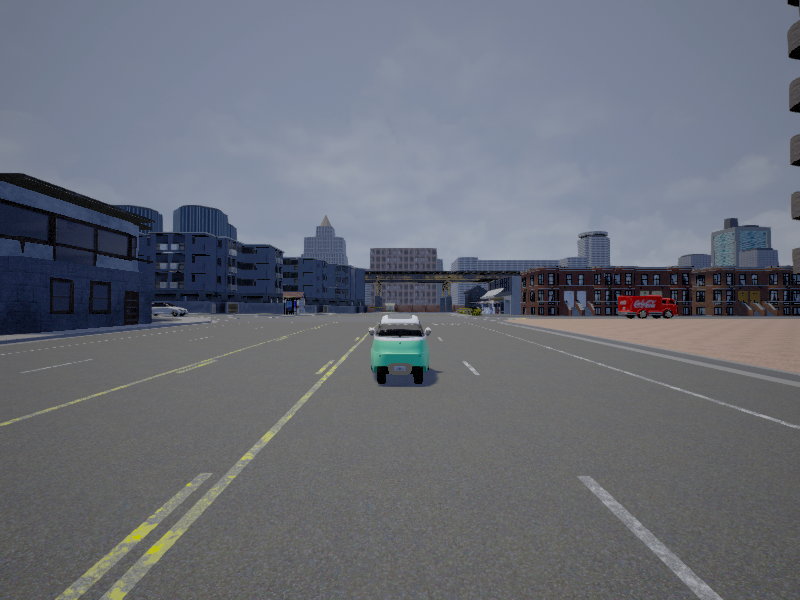Benign: (368, 313, 431, 385), (618, 297, 678, 320), (150, 302, 187, 318)
